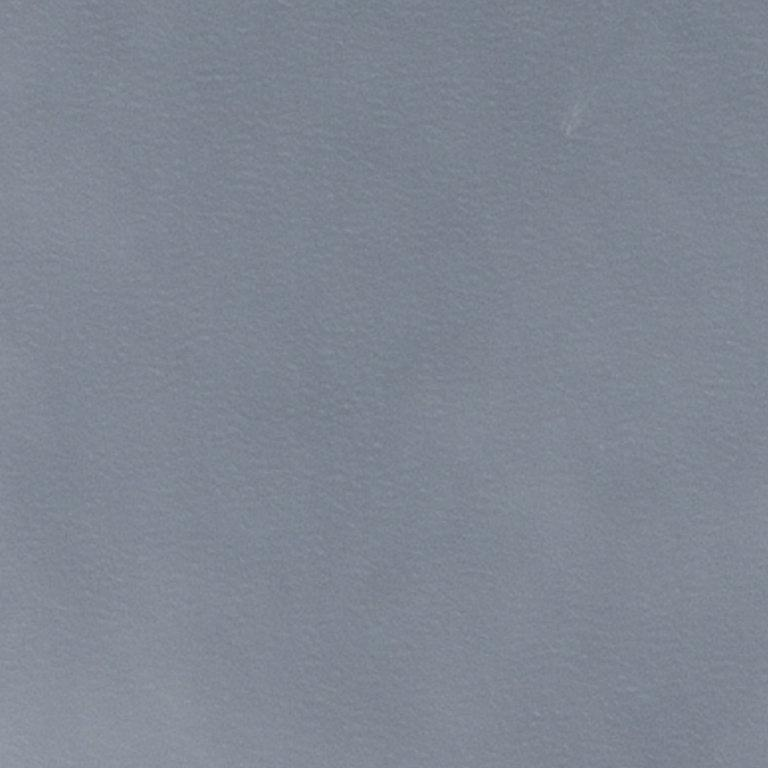ship: (560, 43, 583, 68), (569, 138, 575, 141), (575, 120, 577, 123), (541, 121, 542, 122)
